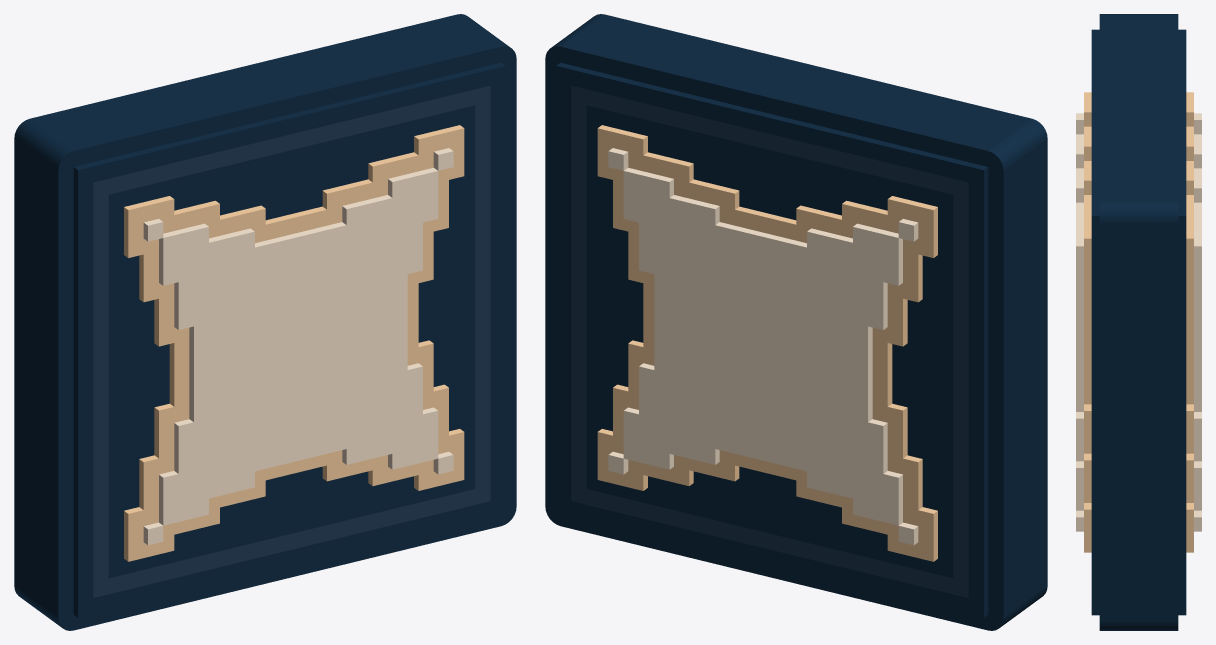
Rendered from NewCollectible.fbx.
3 views of the same model, side by side, from view 1: azimuth 30°, elevation 25°; view 2: azimuth 150°, elevation 25°; view 3: azimuth 270°, elevation 25° (orthographic). The views are drawn at different scales.
Parts seen in each view (by area): view 1: generated; view 2: generated; view 3: generated.
Boxes of the visible parts, x1=… form: generated: x1=14, y1=14, x2=516, y2=630; generated: x1=545, y1=14, x2=1047, y2=630; generated: x1=1076, y1=14, x2=1201, y2=630.
Bounding box in the file's own units: 300 × 300 × 80.
